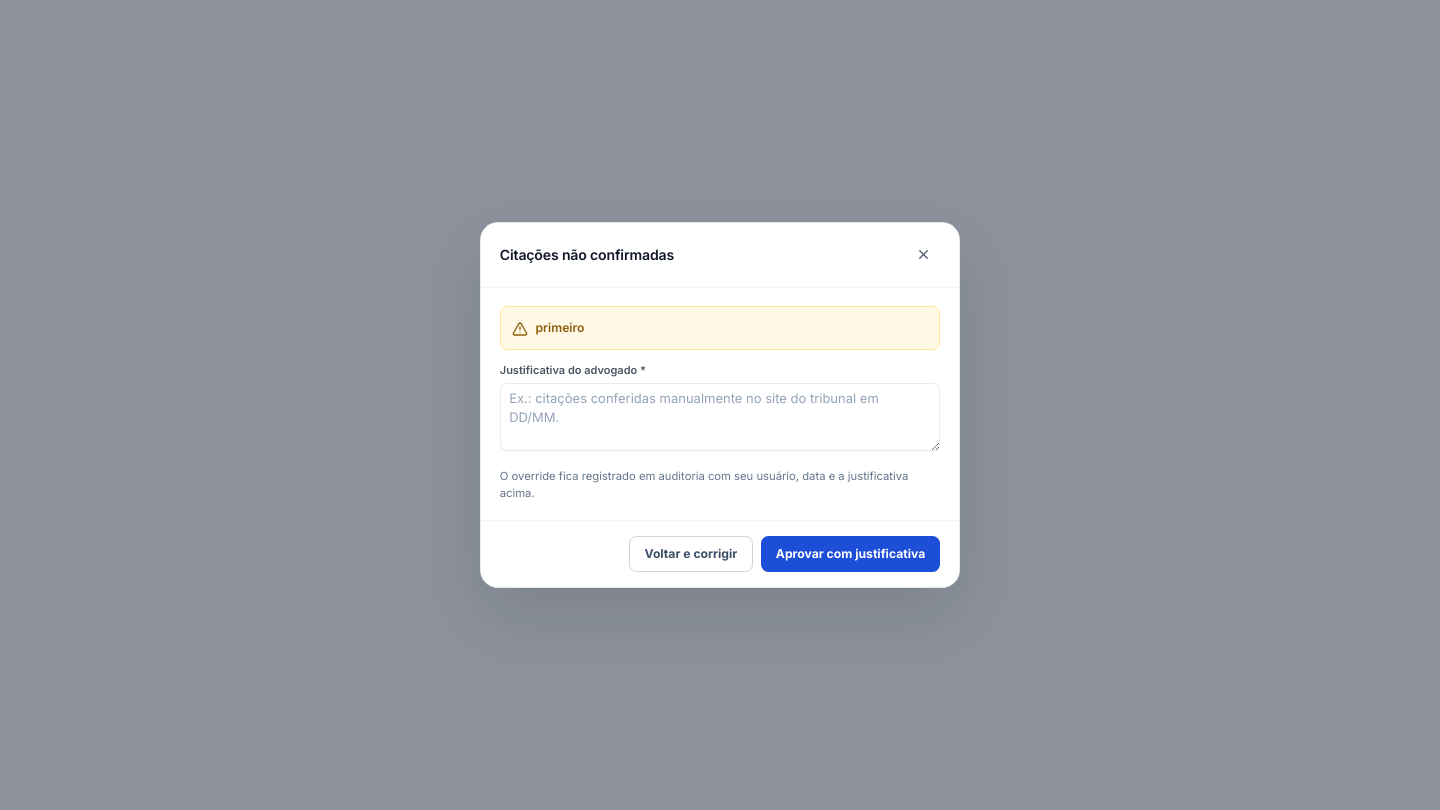
limpeza de estado entre bloqueios › zera o erro de validação ao fechar e reabrir
The image size is (1440, 810).
Click the button "Aprovar com justificativa": (850, 554) [761,536,940,572]
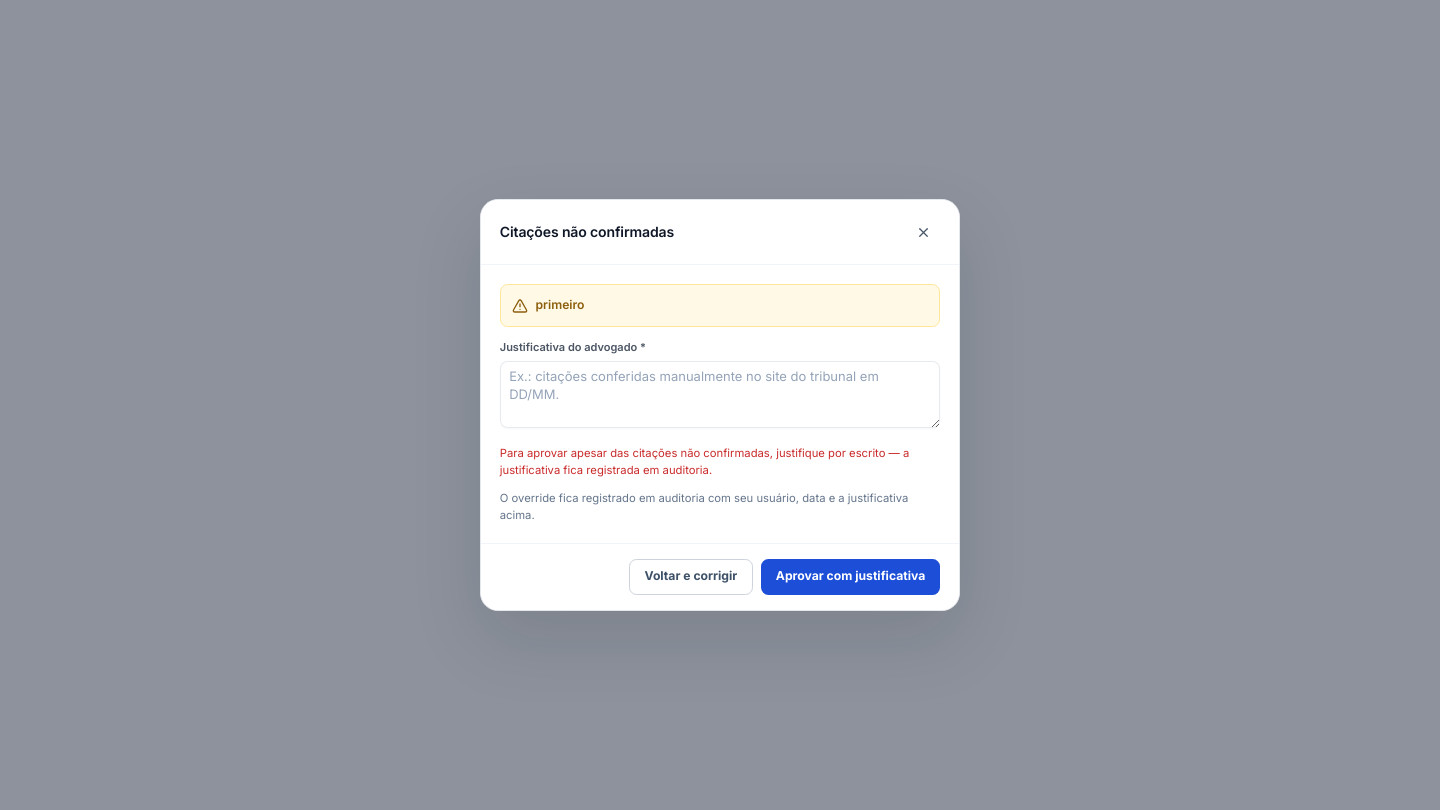
Expected: the message shows "Para aprovar apesar das citações não confirmadas, justifique por escrito — a justificativa fica registrada em auditoria.", [500,446,909,477]
